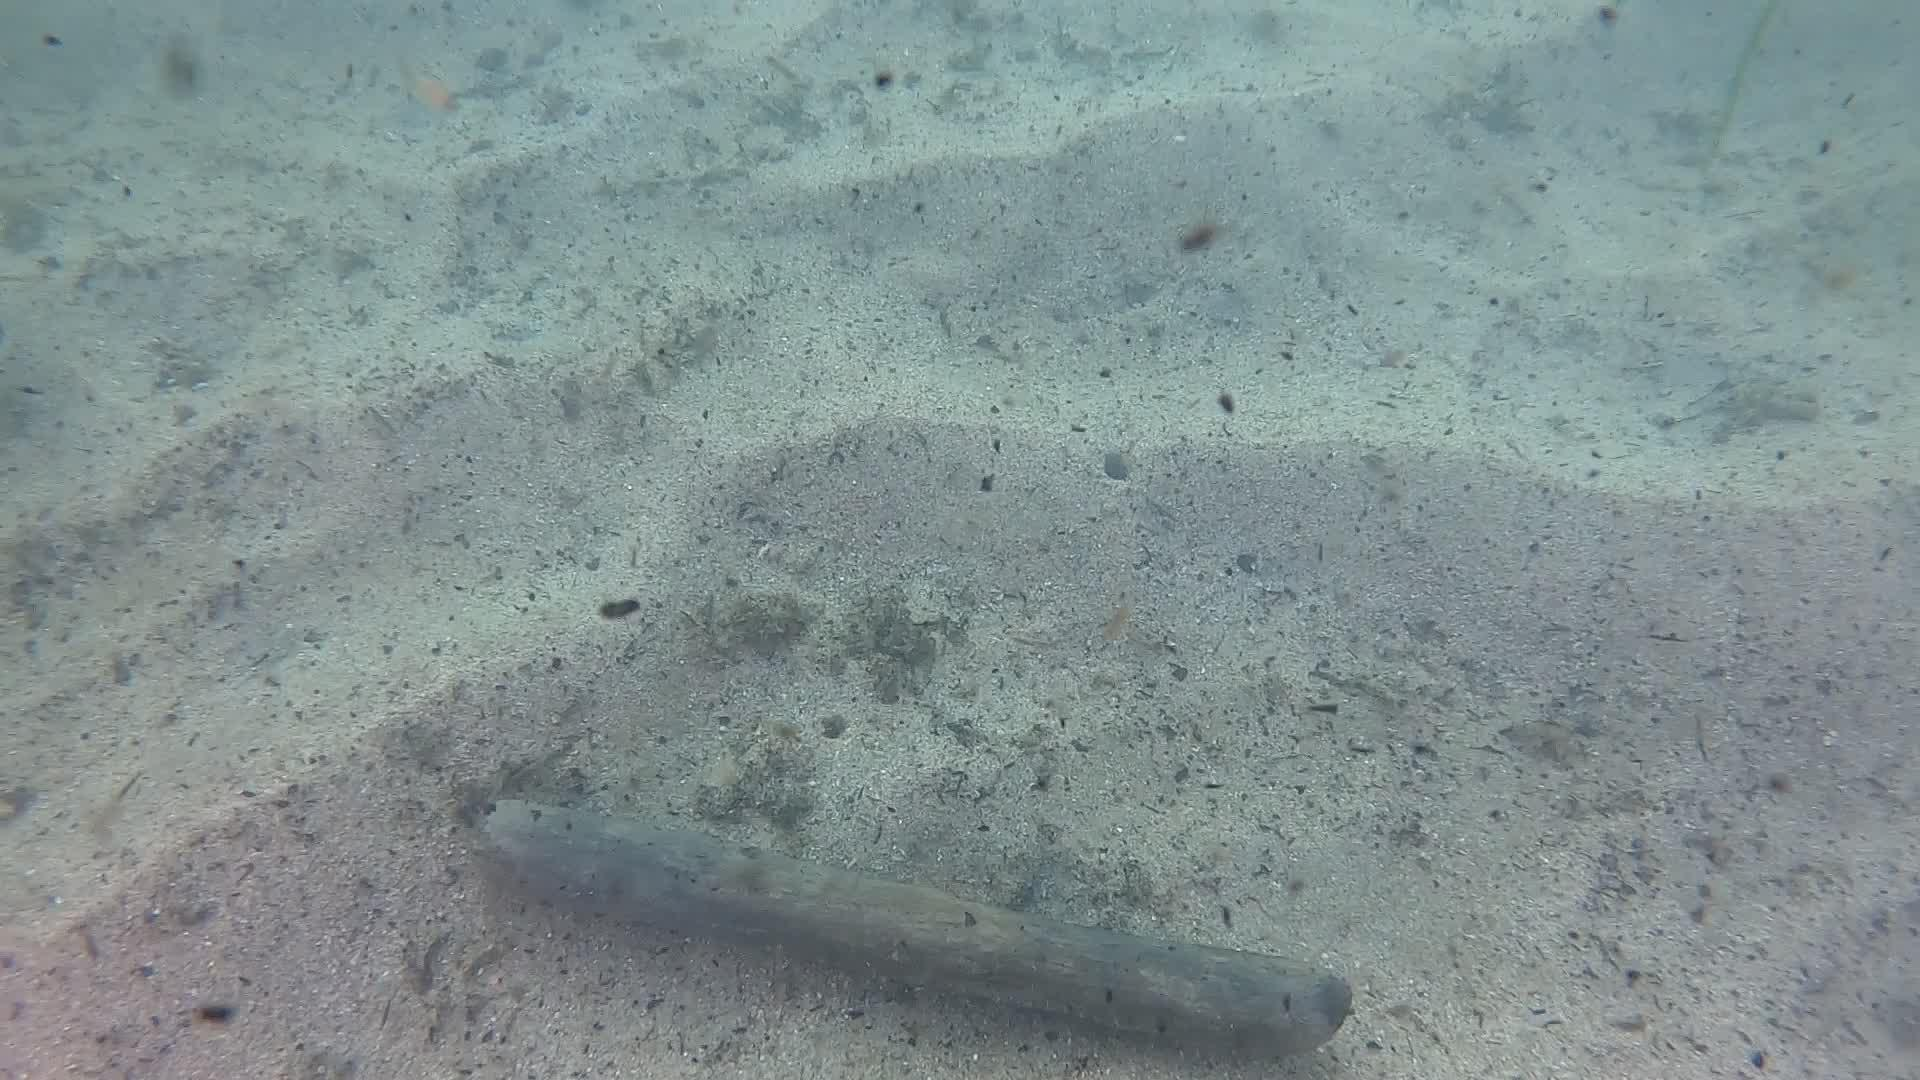wood: (477, 796, 1352, 1051)
